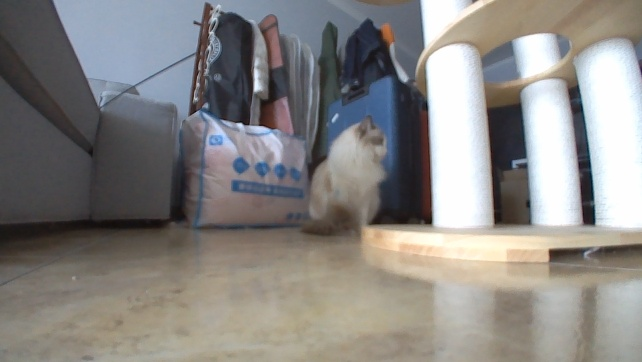cat: (296, 111, 394, 237)
sofa1: (0, 0, 186, 238)
